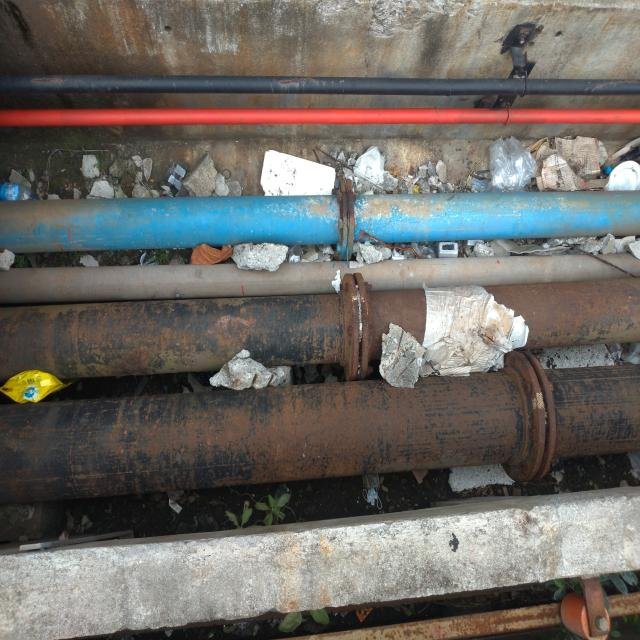gas: (3, 368, 637, 501), (1, 274, 638, 378), (0, 190, 639, 254), (3, 108, 640, 129), (3, 76, 639, 93)
